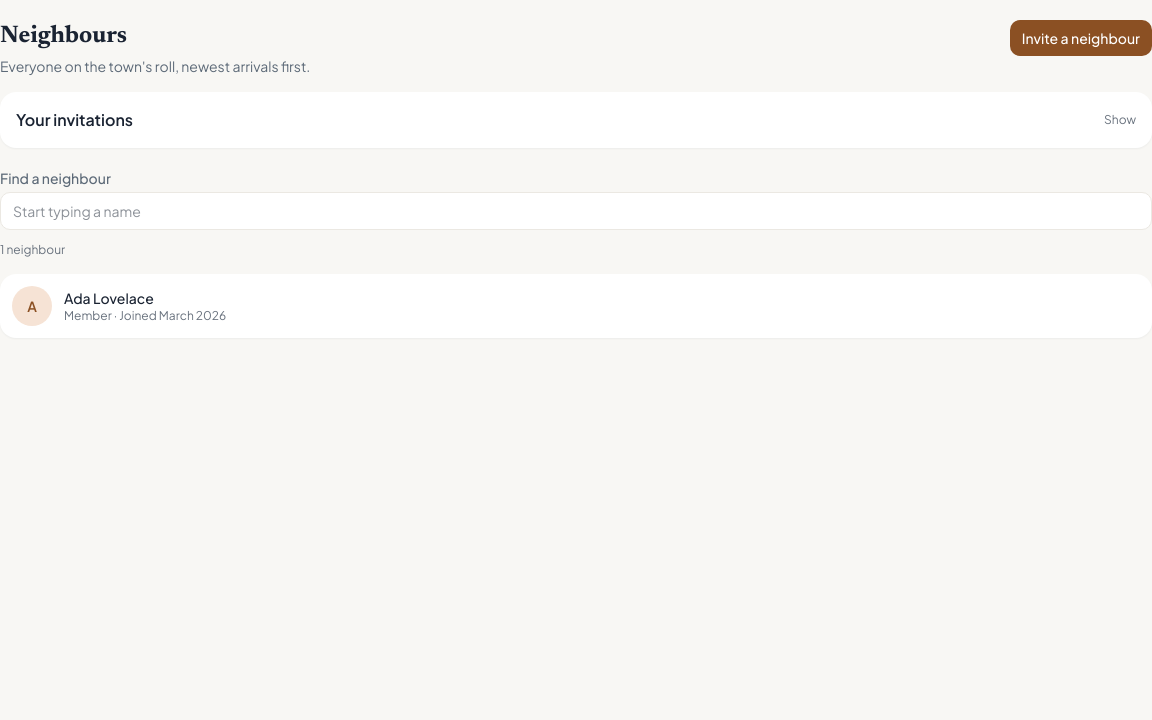
Test: Neighbors invite control › opens the invite dialog, warning what an invitation costs
The image size is (1152, 720).
Step 1. Click the button "Invite a neighbour" → (1081, 38), box [1010, 20, 1151, 56]
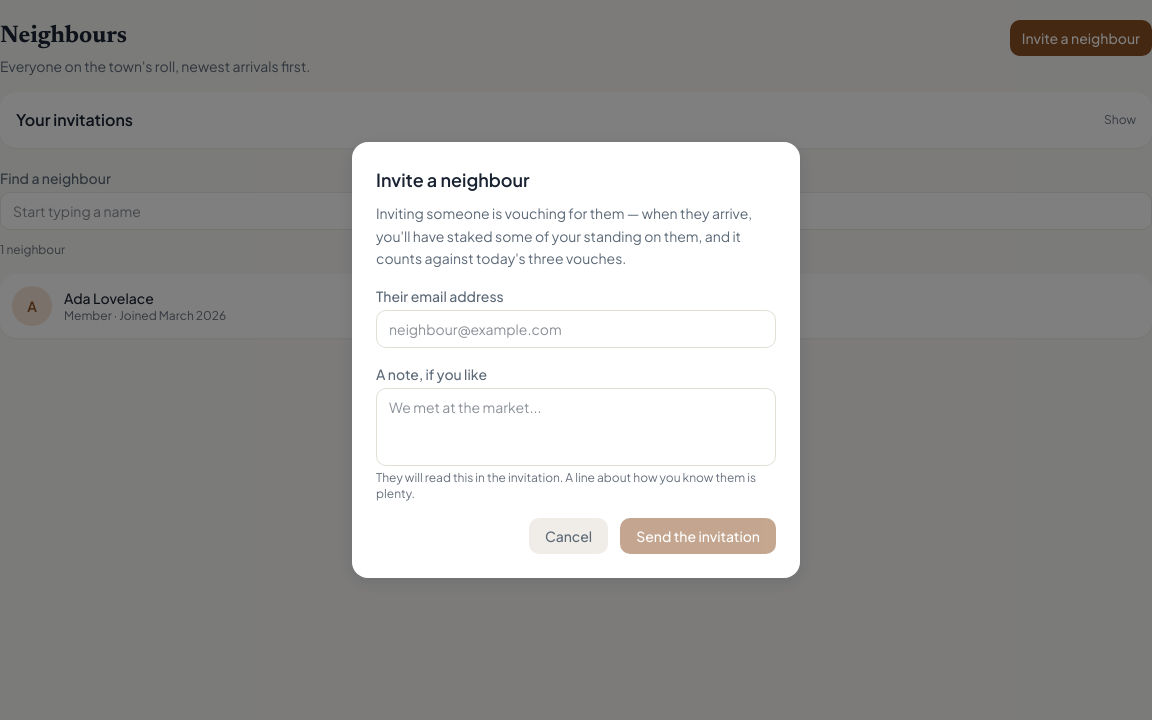
Now the text "Inviting someone is vouching for them" is shown, box [376, 204, 752, 267]
